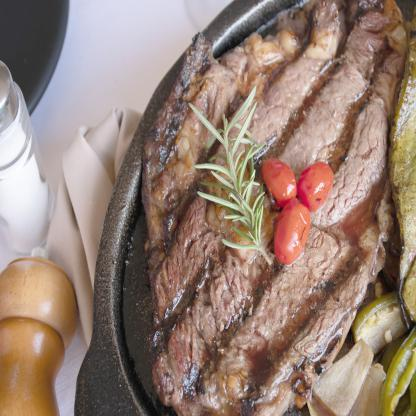Carne: (212, 219, 345, 415), (260, 210, 388, 412), (152, 28, 240, 232), (154, 240, 260, 398), (334, 0, 412, 207), (146, 178, 231, 356), (302, 0, 383, 168), (257, 0, 343, 147)
